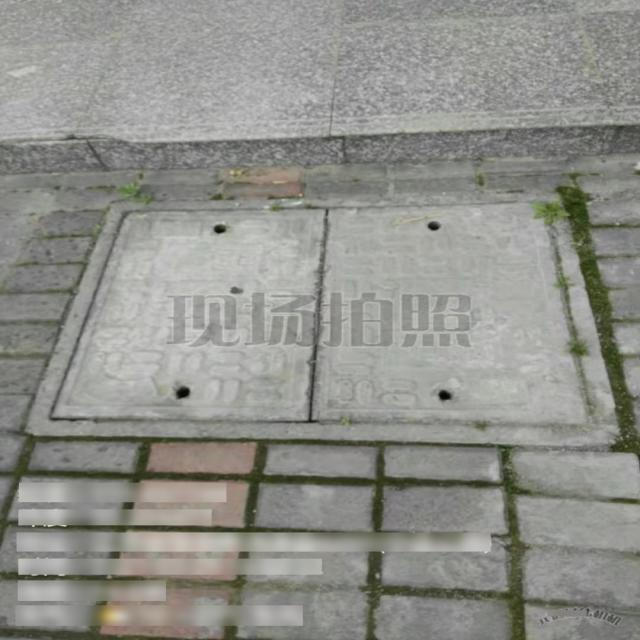Good: (22, 192, 622, 444)
